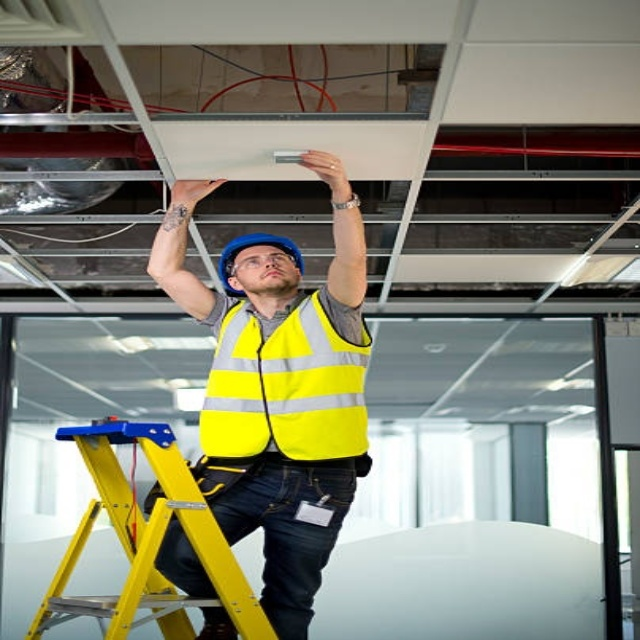Gafas: (231, 254, 297, 271)
Sin_guantes: (301, 146, 355, 190), (163, 177, 230, 210)
Sin_mascara: (252, 268, 288, 284)
